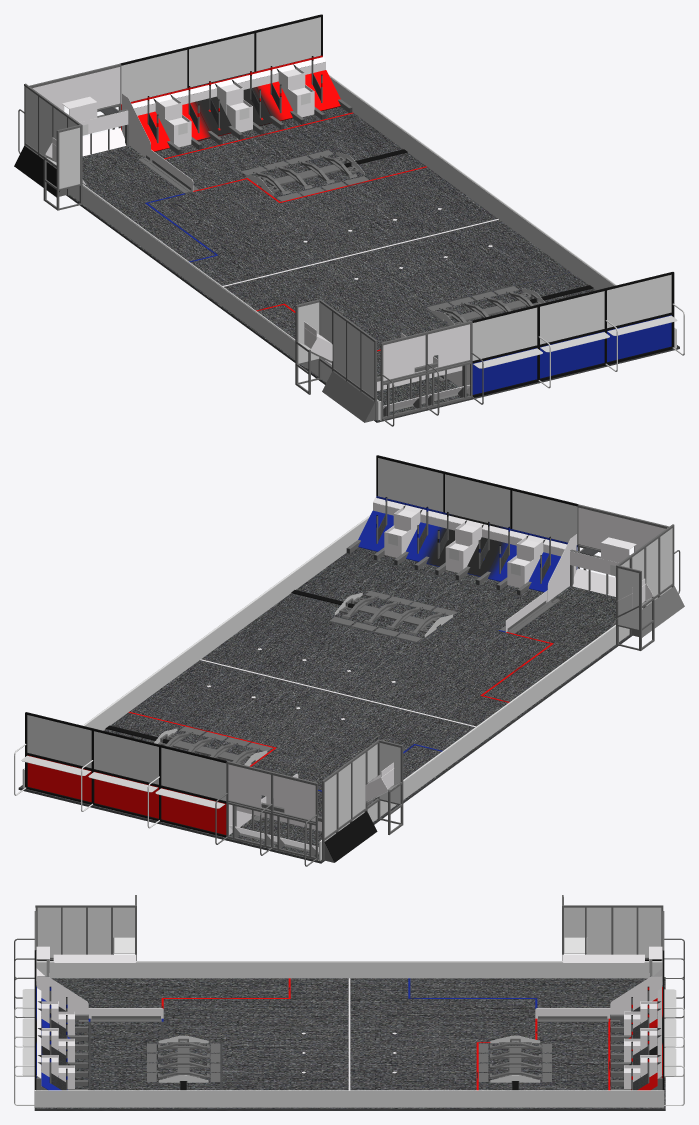
File: field.fbx
The picture shows the model from 3 angles, top to bottom: view 1: azimuth 30°, elevation 25°; view 2: azimuth 150°, elevation 25°; view 3: azimuth 270°, elevation 25°; orthographic projection. The views are drawn at different scales.
Visible parts, largest first — view 1: floor, substations_structures, drivers_window, field_structures, rails, human_player_windows, technical_field_stuff, ramps_blue, ramps_red, drive_teams_table, outer_rails, lines_red; view 2: floor, substations_structures, drivers_window, field_structures, rails, human_player_windows, technical_field_stuff, ramps_red, ramps_blue, drive_teams_table, outer_rails, lines_red; view 3: floor, rails, substations_structures, field_structures, human_player_windows, drive_teams_table, single_substation_window, outer_rails, technical_field_stuff, lines_red, ramps_blue, ramps_red.
Part boxes in pixels (x1,y1,x2,y2): floor: (66, 64, 679, 422); substations_structures: (31, 56, 498, 409); drivers_window: (121, 17, 671, 360); field_structures: (18, 61, 541, 426); rails: (27, 77, 676, 420); human_player_windows: (26, 87, 374, 397); technical_field_stuff: (14, 14, 674, 397); ramps_blue: (472, 315, 671, 394); ramps_red: (121, 55, 340, 151); drive_teams_table: (473, 303, 684, 388); outer_rails: (82, 74, 676, 420); lines_red: (164, 112, 426, 351); floor: (18, 505, 632, 863); substations_structures: (200, 497, 667, 852); drivers_window: (27, 458, 577, 800); field_structures: (158, 497, 684, 866); rails: (22, 518, 671, 860); human_player_windows: (324, 528, 672, 837); technical_field_stuff: (25, 455, 578, 862); ramps_red: (27, 755, 226, 834); ramps_blue: (358, 496, 577, 592); drive_teams_table: (14, 743, 224, 828); outer_rails: (23, 515, 615, 860); lines_red: (128, 632, 553, 766); floor: (34, 976, 665, 1110); rails: (34, 937, 664, 1107); substations_structures: (36, 937, 662, 1090); field_structures: (14, 895, 684, 1090); human_player_windows: (37, 907, 661, 957); drive_teams_table: (14, 989, 684, 1105); single_substation_window: (113, 907, 586, 937); outer_rails: (35, 961, 663, 1090); technical_field_stuff: (34, 950, 664, 1090); lines_red: (161, 978, 610, 1090); ramps_blue: (36, 986, 70, 1090); ramps_red: (628, 987, 662, 1090).
Bounding box in the file's own units: 892 × 213 × 1772.
